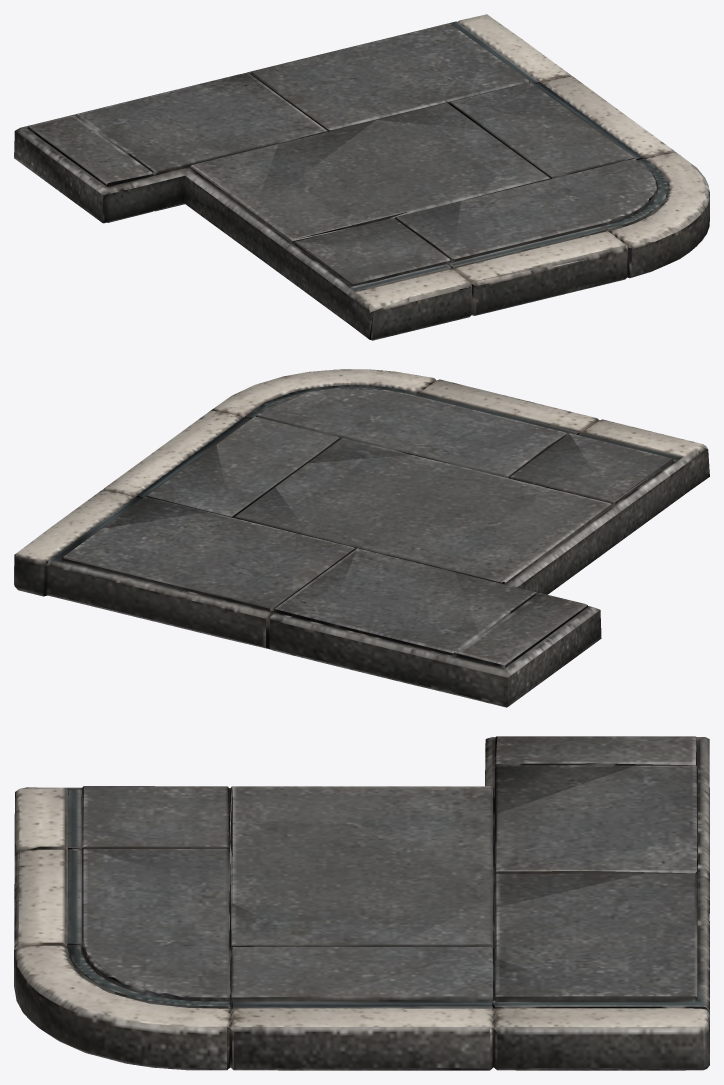
The model's file is kairox-sidewalk-corner.glb.
3 renders of one model, top to bottom at view 1: azimuth 30°, elevation 25°; view 2: azimuth 150°, elevation 25°; view 3: azimuth 270°, elevation 25°, orthographic. The views are drawn at different scales.
Visible parts, largest first — view 1: kairox-sidewalk-corner; view 2: kairox-sidewalk-corner; view 3: kairox-sidewalk-corner.
Part boxes in pixels (x1,y1,x2,y2): kairox-sidewalk-corner: (14,14,709,340); kairox-sidewalk-corner: (14,369,709,707); kairox-sidewalk-corner: (14,736,709,1070).
Bounding box in the file's own units: 2 × 0.16 × 2.
Materials: 1 (1 with a texture image).
